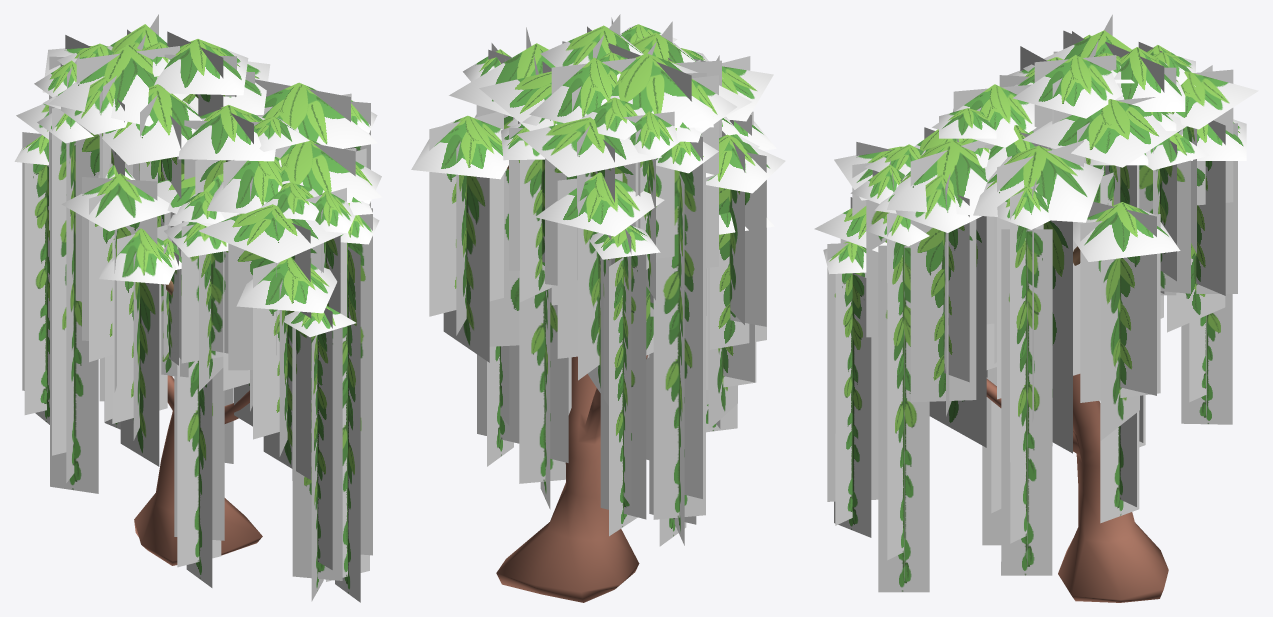
Rendered from SM_TreeBig.fbx.
3 renders of one model, left to right at view 1: azimuth 30°, elevation 25°; view 2: azimuth 150°, elevation 25°; view 3: azimuth 270°, elevation 25°, orthographic. The views are drawn at different scales.
Visible parts, largest first — view 1: SM_TreeBig; view 2: SM_TreeBig; view 3: SM_TreeBig.
Boxes of the visible parts, x1,y1,x2,y2 form: SM_TreeBig: (14, 14, 382, 602); SM_TreeBig: (411, 14, 785, 602); SM_TreeBig: (814, 14, 1258, 602).
Bounding box in the file's own units: 377 × 629 × 490.
